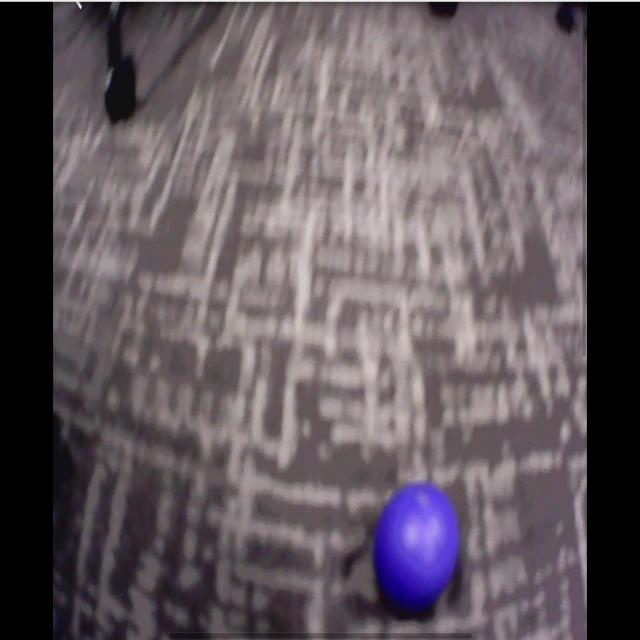ball: (375, 484, 457, 604)
